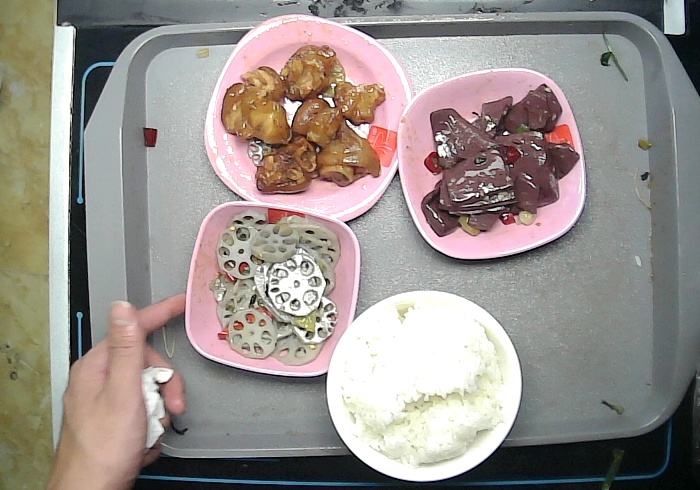SHKJ-Fan_Wan: (326, 288, 521, 484)
SHKJ-Fen_Se_Cai_Die: (397, 68, 584, 258)
SHKJ-Fen_Se_Si_Fang_Cai_Die: (205, 15, 411, 225)
SHKJ-Fen_Se_Xiao_Fang_Die: (183, 202, 360, 378)
